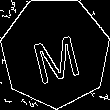M_N: (27, 22, 83, 83)
